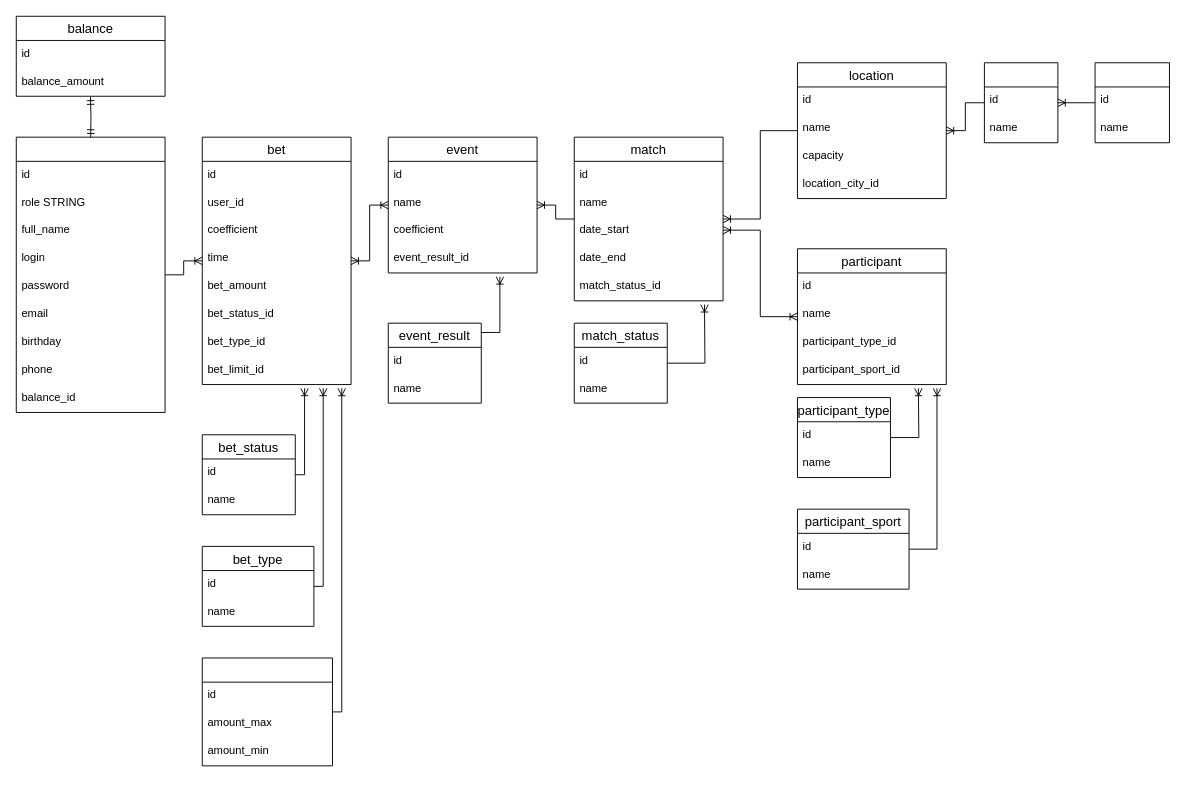
Image size: 1186x785. Some labels were removed from this diagram. Each missing label, with the box of its shape:
bet_limit: (201, 657, 332, 766)
city: (983, 62, 1058, 143)
country: (1094, 62, 1169, 143)
user: (15, 136, 165, 412)
